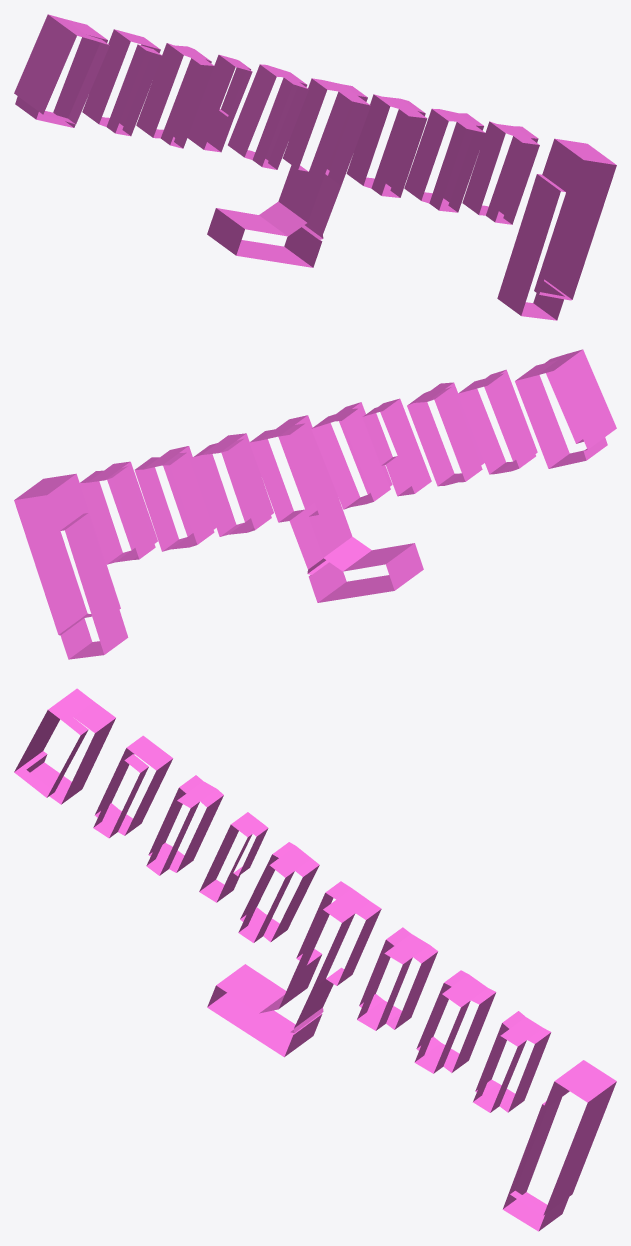
File: Wall_Hini_2.0_Slope_2.0.obj
3 renders of one model, top to bottom at view 1: azimuth 30°, elevation 25°; view 2: azimuth 150°, elevation 25°; view 3: azimuth 330°, elevation 25°, orthographic.
Parts seen in each view (by area): view 1: 5, 1, 10, 4, 3, 7, 2, 9, 8, 6; view 2: 5, 1, 10, 4, 3, 2, 9, 7, 8, 6; view 3: 5, 1, 10, 4, 3, 2, 7, 9, 8, 6.
Part boxes in pixels (x1=…): 5: x1=207, y1=78, x2=370, y2=267; 1: x1=497, y1=138, x2=616, y2=320; 10: x1=14, y1=14, x2=109, y2=127; 4: x1=404, y1=108, x2=485, y2=212; 3: x1=346, y1=94, x2=427, y2=197; 7: x1=228, y1=64, x2=308, y2=169; 2: x1=462, y1=121, x2=539, y2=224; 9: x1=82, y1=29, x2=161, y2=136; 8: x1=136, y1=43, x2=214, y2=148; 6: x1=187, y1=54, x2=252, y2=152; 5: x1=249, y1=415, x2=423, y2=602; 1: x1=14, y1=473, x2=128, y2=659; 10: x1=515, y1=349, x2=616, y2=468; 4: x1=134, y1=446, x2=216, y2=551; 3: x1=192, y1=433, x2=273, y2=536; 2: x1=79, y1=461, x2=157, y2=564; 9: x1=458, y1=369, x2=537, y2=474; 7: x1=311, y1=402, x2=392, y2=509; 8: x1=407, y1=382, x2=484, y2=486; 6: x1=362, y1=398, x2=431, y2=496; 5: x1=207, y1=881, x2=381, y2=1057; 1: x1=502, y1=1060, x2=616, y2=1231; 10: x1=14, y1=688, x2=115, y2=804; 4: x1=414, y1=970, x2=496, y2=1073; 3: x1=357, y1=927, x2=437, y2=1030; 2: x1=473, y1=1011, x2=551, y2=1112; 7: x1=238, y1=842, x2=319, y2=942; 9: x1=93, y1=735, x2=172, y2=838; 8: x1=146, y1=775, x2=223, y2=875; 6: x1=199, y1=812, x2=268, y2=902.
Bounding box in the file's own units: 136 × 92 × 12.
